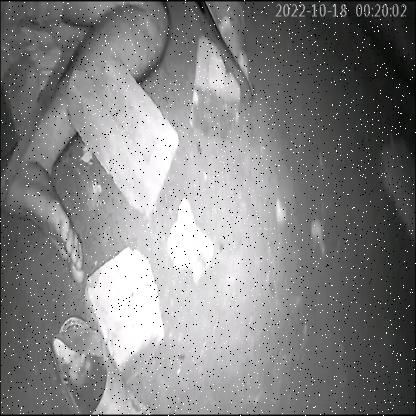leg: (0, 0, 177, 289)
